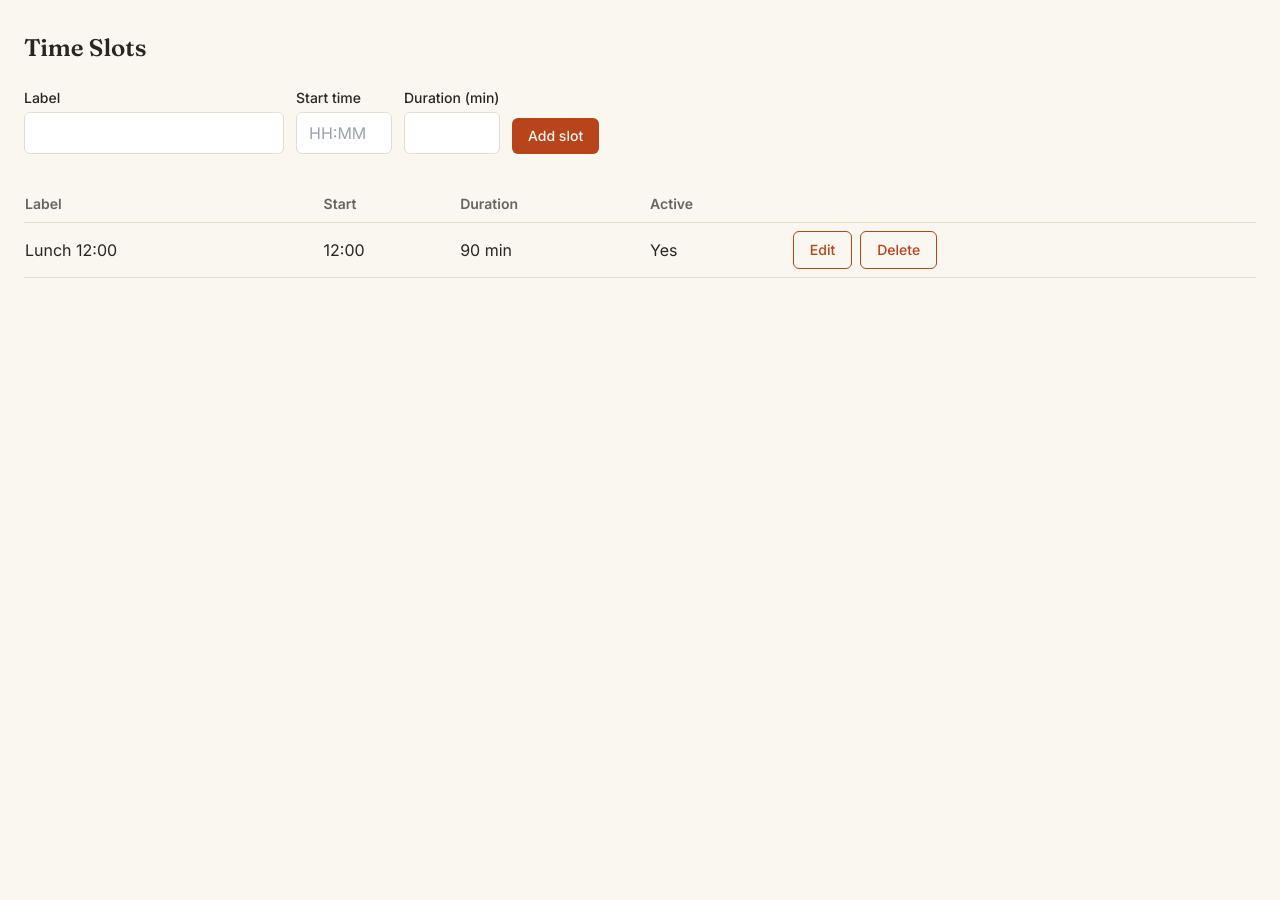
Scenario: AdminSlots › shows the conflict error when deleting a slot with future bookings
Click the button "Delete".
click(899, 250)  # box [860,231,937,269]
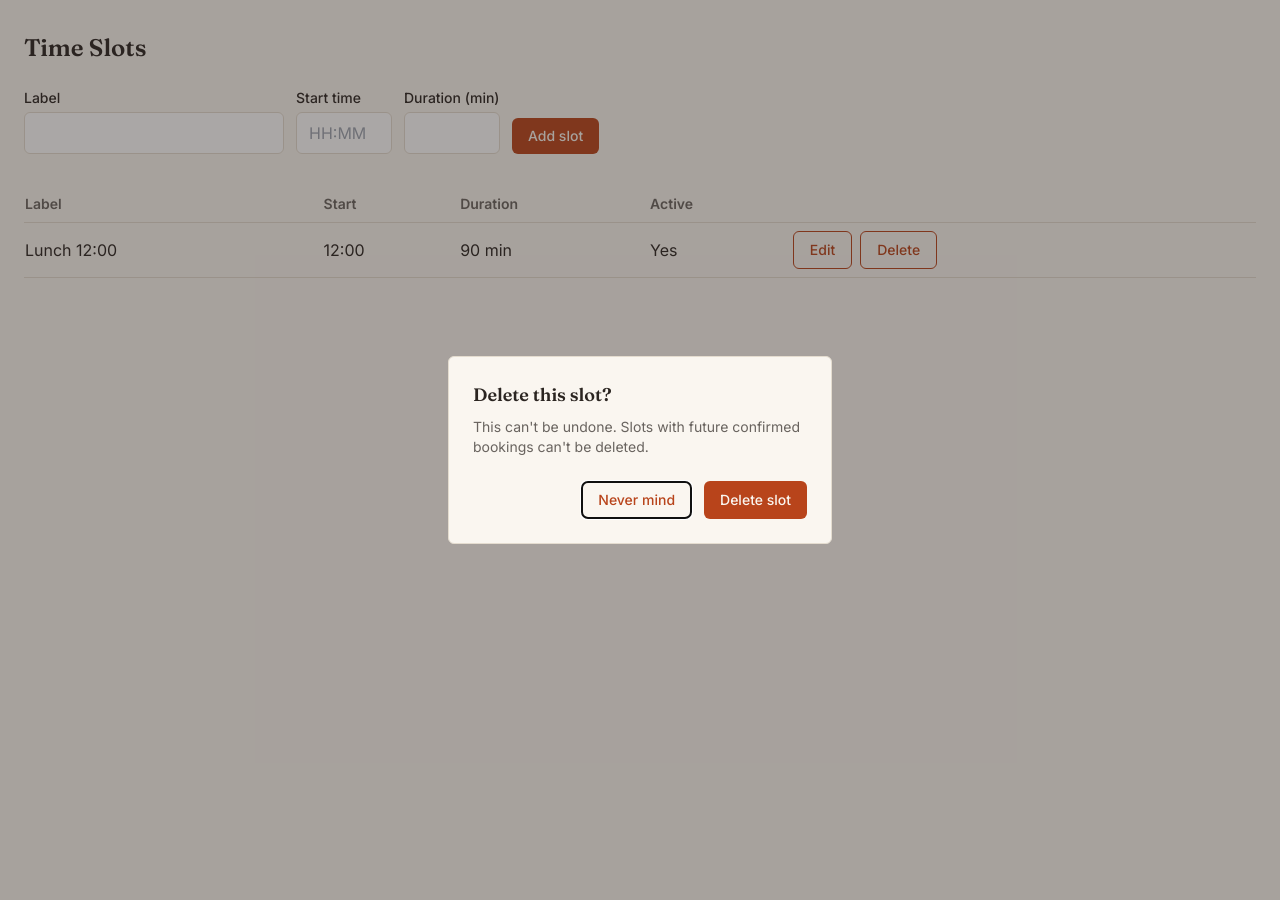
Click the button "Delete slot".
click(756, 500)  # box [704,481,807,519]
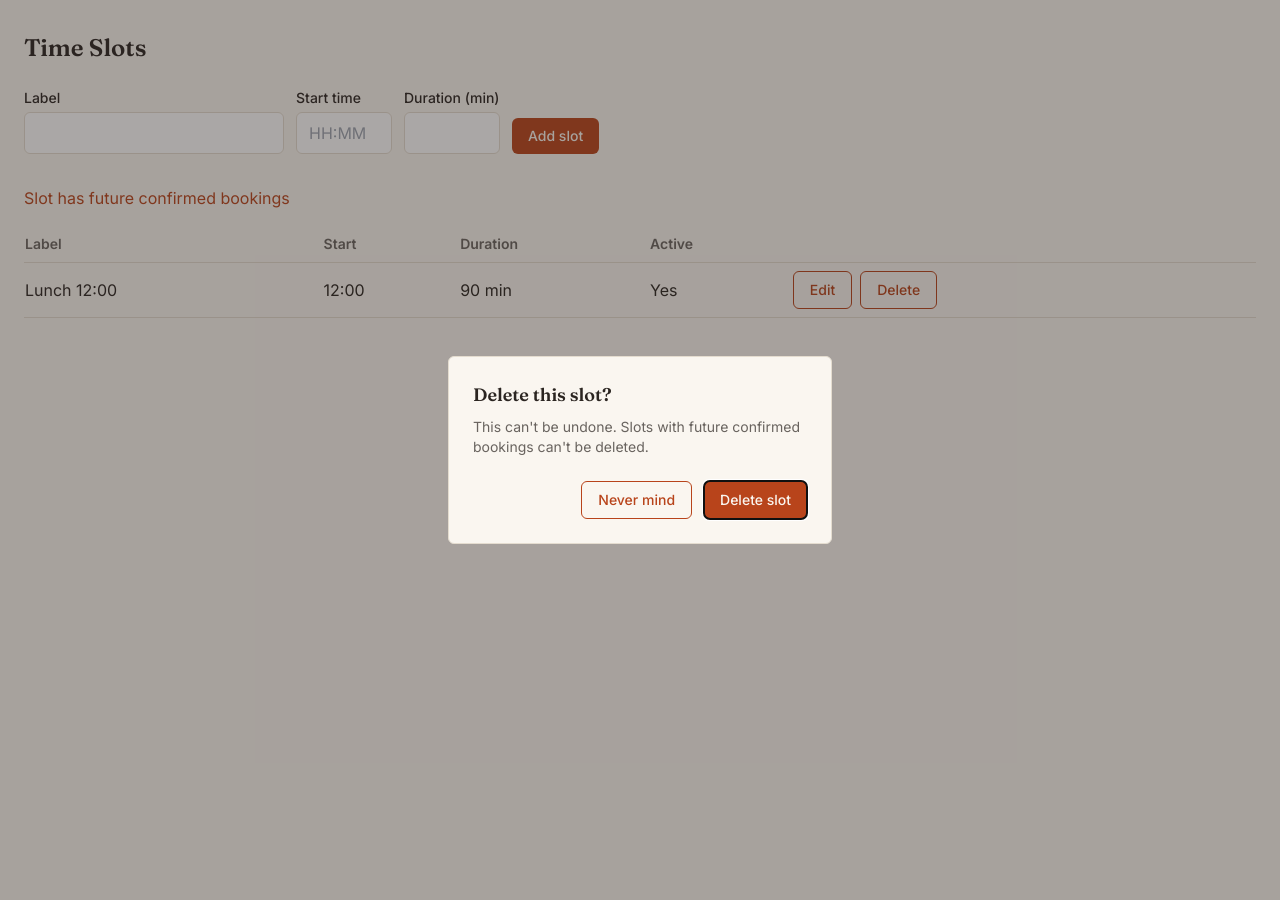
Now the text "Slot has future confirmed bookings" is shown, box [24,188,290,208]
